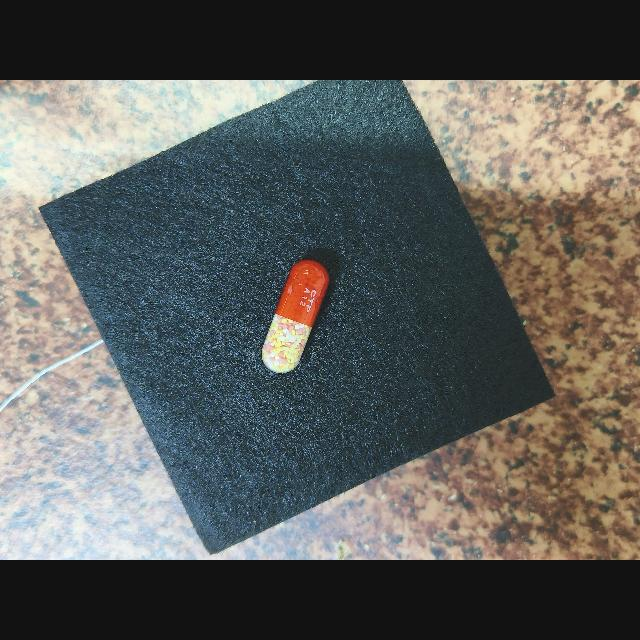Intact Capsule: (262, 260, 329, 373)
